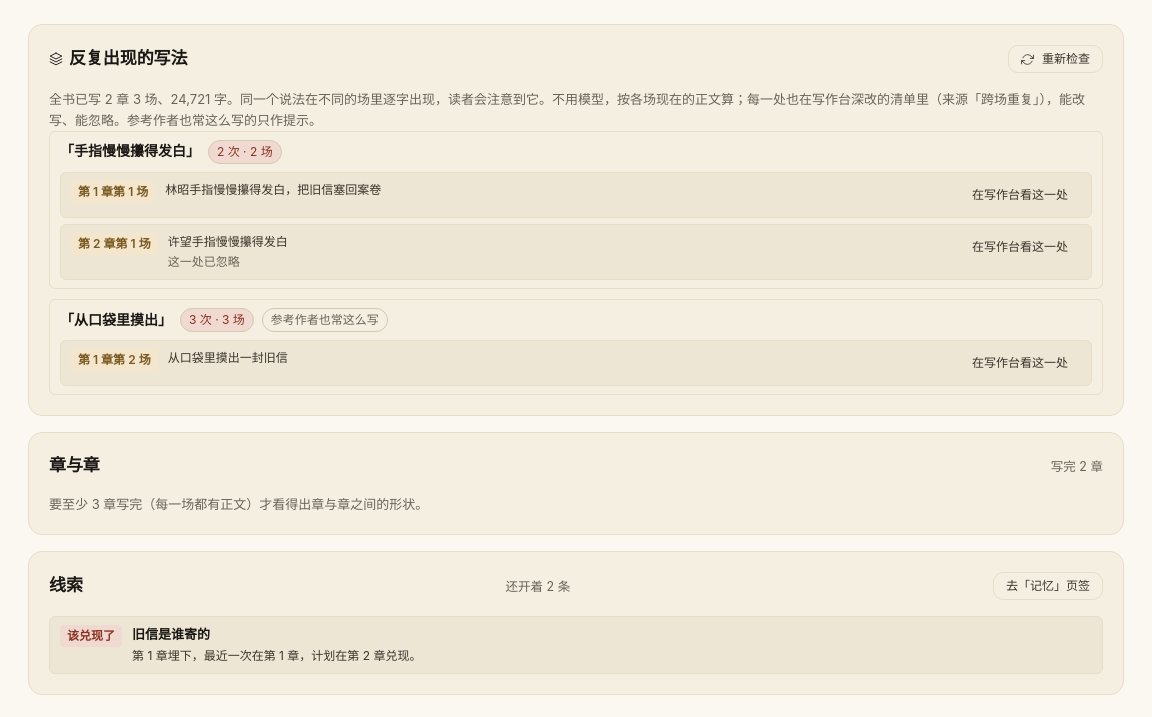
Test: 成稿中心 · 跨章 › 线索：有提醒的线列出来，「去「记忆」页签」交给成稿中心切页签；读不到时给重试
Expected: the element with test id "cross-threads" is shown, [28,551,1124,695]
Expected: the element with test id "cross-threads" shows "该兑现了", [67,628,115,643]
Click the button "去「记忆」页签" at (1048, 586), box [993,572,1103,600]
(page scrolled)
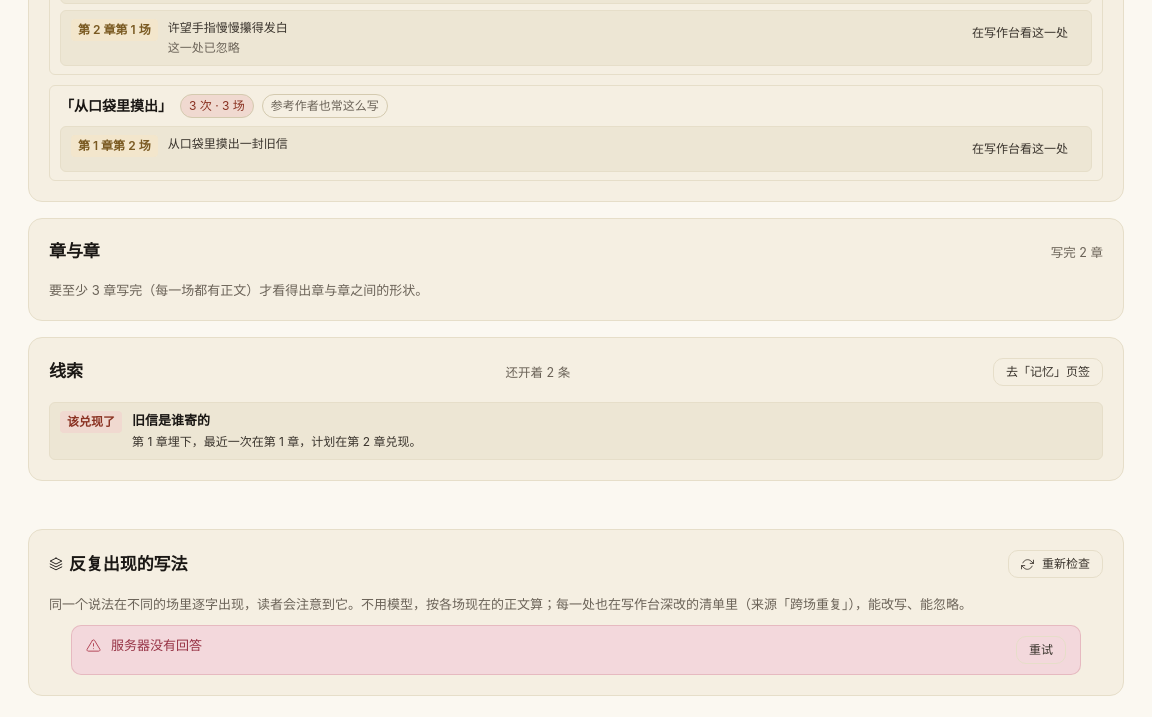
Result: the text "服务器没有回答" is shown at [111,637,202,653]
Click the button "重试" at (1041, 650), box [1016,636,1066,664]
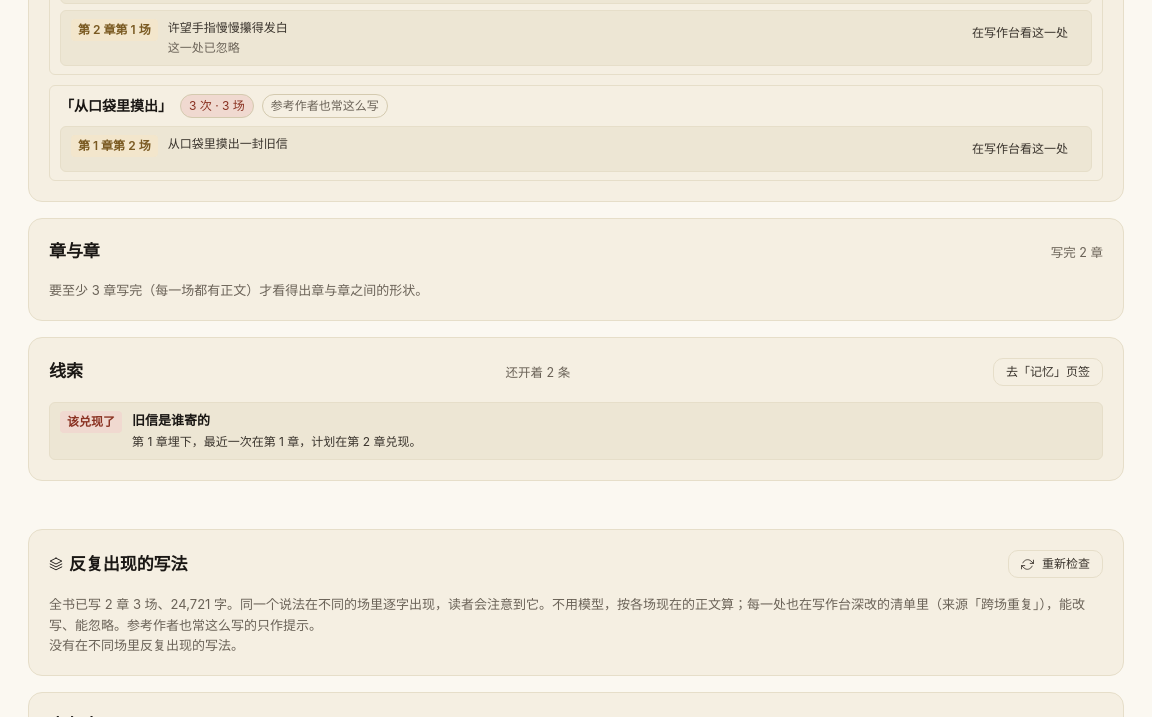
Result: the text "没有在不同场里反复出现的写法" is shown at [49,637,244,653]
